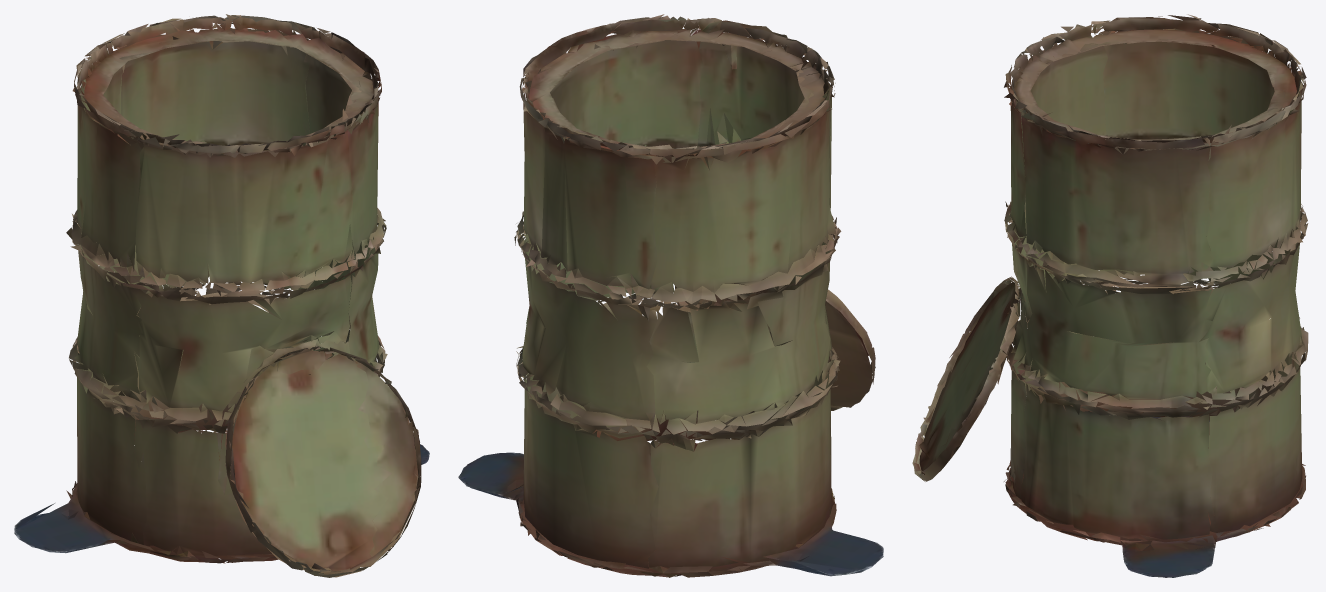
File: container_barrel_open.glb
The picture shows the model from 3 angles, left to right: view 1: azimuth 30°, elevation 25°; view 2: azimuth 150°, elevation 25°; view 3: azimuth 270°, elevation 25°; orthographic projection. The views are drawn at different scales.
Visible parts, largest first — view 1: container_barrel_open; view 2: container_barrel_open; view 3: container_barrel_open.
Boxes of the visible parts, left/top/right/bottom form: container_barrel_open: left=14, top=14, right=429, bottom=577; container_barrel_open: left=458, top=14, right=883, bottom=577; container_barrel_open: left=912, top=14, right=1308, bottom=577.
Size of the model in its own units: 1.23 by 1.26 by 1.1.
1 material, 1 textured.
